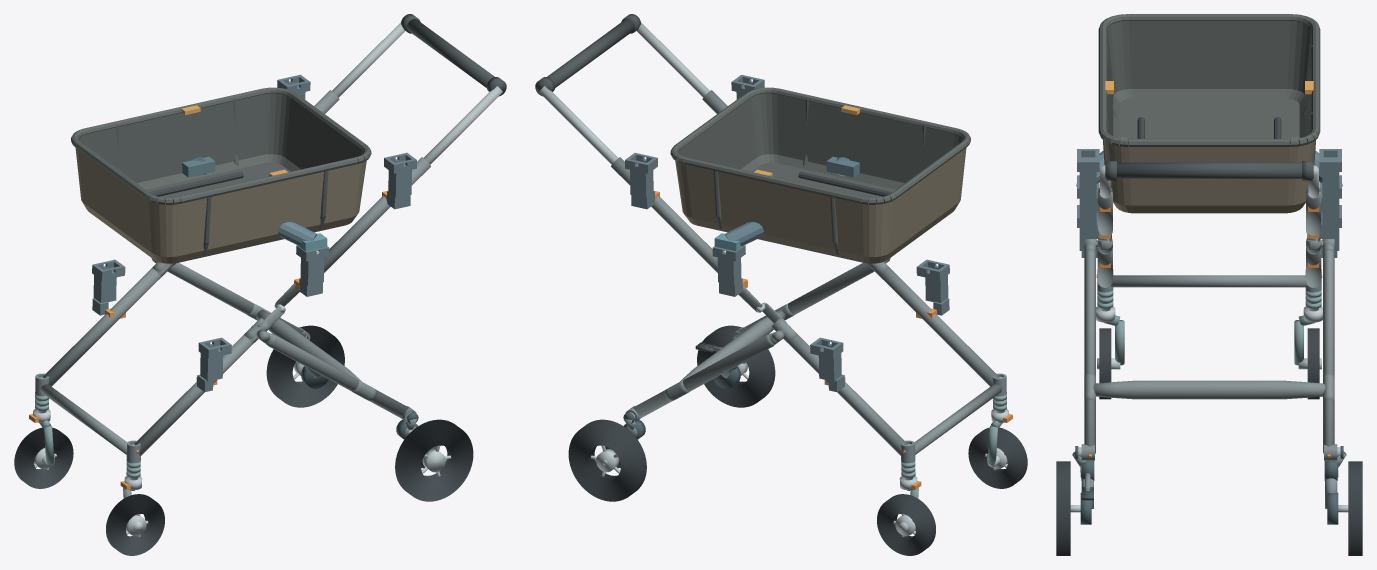
File: S13_w550_state1_wheel_S.glb
3 renders of one model, left to right at view 1: azimuth 30°, elevation 25°; view 2: azimuth 150°, elevation 25°; view 3: azimuth 270°, elevation 25°, orthographic. The views are drawn at different scales.
Parts seen in each view (by area): view 1: S13_Cabin, RL_tire.002, RR_tire.002, FL_tire.002, FR_tire.002, main_lower_1.003, V46_rear_leg_-1.003, main_lower_-1.003, round_handle.002, S13_Cabin_Mount_M, main_upper_-1.003, Universal_Cabin_Receiver_H_-1 (+8 smaller); view 2: S13_Cabin, RR_tire.002, RL_tire.002, FR_tire.002, FL_tire.002, main_lower_-1.003, V46_rear_leg_1.003, main_lower_1.003, round_handle.002, S13_Cabin_Mount_M, main_upper_1.003, Universal_Cabin_Receiver_H_1 (+8 smaller); view 3: S13_Cabin, V46_rearbar.003, round_handle.002, front_fixed_round_tube.002, V46_rear_leg_1.003, V46_rear_leg_-1.003, RL_tire.002, RR_tire.002, Universal_Cabin_Receiver_H_1, Universal_Cabin_Receiver_H_-1, FL_tire.002, FR_tire.002 (+9 smaller).
Boxes of the visible parts, left/top/right/bottom form: S13_Cabin: left=71, top=87, right=371, bottom=263; RL_tire.002: left=395, top=419, right=473, bottom=501; RR_tire.002: left=266, top=325, right=344, bottom=407; FL_tire.002: left=106, top=494, right=164, bottom=555; FR_tire.002: left=14, top=427, right=73, bottom=488; main_lower_1.003: left=43, top=264, right=170, bottom=386; V46_rear_leg_-1.003: left=266, top=334, right=408, bottom=418; main_lower_-1.003: left=134, top=335, right=256, bottom=455; round_handle.002: left=407, top=19, right=505, bottom=94; S13_Cabin_Mount_M: left=182, top=156, right=327, bottom=253; main_upper_-1.003: left=300, top=157, right=430, bottom=278; Universal_Cabin_Receiver_H_-1: left=384, top=152, right=416, bottom=209; S13_Cabin: left=670, top=87, right=970, bottom=263; RR_tire.002: left=568, top=419, right=646, bottom=501; RL_tire.002: left=697, top=325, right=775, bottom=407; FR_tire.002: left=877, top=494, right=935, bottom=555; FL_tire.002: left=968, top=427, right=1027, bottom=488; main_lower_-1.003: left=871, top=264, right=998, bottom=386; V46_rear_leg_1.003: left=633, top=334, right=775, bottom=418; main_lower_1.003: left=785, top=335, right=907, bottom=455; round_handle.002: left=536, top=19, right=634, bottom=94; S13_Cabin_Mount_M: left=714, top=156, right=859, bottom=253; main_upper_1.003: left=611, top=157, right=741, bottom=278; Universal_Cabin_Receiver_H_1: left=625, top=152, right=657, bottom=209; S13_Cabin: left=1098, top=14, right=1320, bottom=213; V46_rearbar.003: left=1093, top=380, right=1325, bottom=399; round_handle.002: left=1105, top=162, right=1313, bottom=178; front_fixed_round_tube.002: left=1111, top=275, right=1307, bottom=287; V46_rear_leg_1.003: left=1323, top=248, right=1334, bottom=453; V46_rear_leg_-1.003: left=1084, top=248, right=1095, bottom=453; RL_tire.002: left=1056, top=461, right=1070, bottom=555; RR_tire.002: left=1348, top=461, right=1362, bottom=555; Universal_Cabin_Receiver_H_1: left=1319, top=149, right=1341, bottom=212; Universal_Cabin_Receiver_H_-1: left=1077, top=149, right=1099, bottom=212; FL_tire.002: left=1099, top=328, right=1111, bottom=399; FR_tire.002: left=1307, top=328, right=1319, bottom=399.
Size of the model in its own units: 1.11 by 1.02 by 0.6471.
